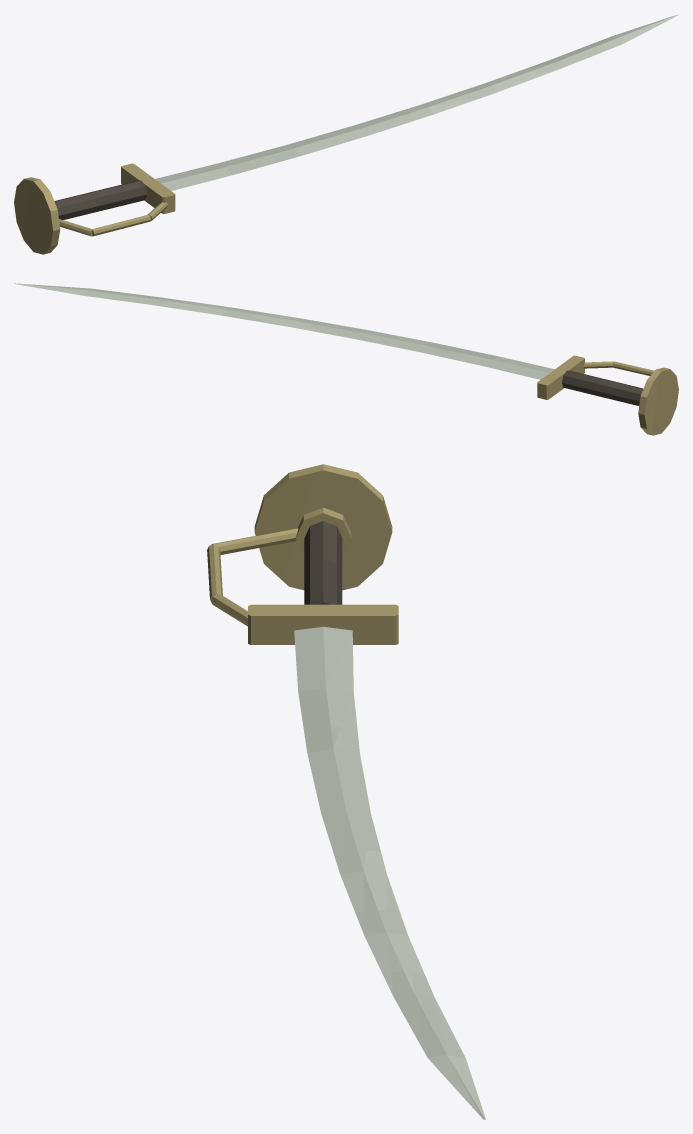
File: weapon-talwar.glb
The picture shows the model from 3 angles, top to bottom: view 1: azimuth 30°, elevation 25°; view 2: azimuth 150°, elevation 25°; view 3: azimuth 270°, elevation 25°; orthographic projection. The views are drawn at different scales.
Visible parts, largest first — view 1: weapon-talwar/faceted-distinct-blade, weapon-talwar/large-disc-pommel, weapon-talwar/eight-sided-handle, weapon-talwar/transverse-crossguard, weapon-talwar/open-knuckle-bow-2; view 2: weapon-talwar/faceted-distinct-blade, weapon-talwar/large-disc-pommel, weapon-talwar/eight-sided-handle, weapon-talwar/transverse-crossguard, weapon-talwar/open-knuckle-bow-2; view 3: weapon-talwar/faceted-distinct-blade, weapon-talwar/large-disc-pommel, weapon-talwar/transverse-crossguard, weapon-talwar/eight-sided-handle, weapon-talwar/handle-end-pommel, weapon-talwar/open-knuckle-bow-3.
Boxes of the visible parts, left/top/right/bottom form: weapon-talwar/faceted-distinct-blade: left=155, top=14, right=678, bottom=190; weapon-talwar/large-disc-pommel: left=14, top=177, right=60, bottom=254; weapon-talwar/eight-sided-handle: left=54, top=180, right=146, bottom=219; weapon-talwar/transverse-crossguard: left=121, top=163, right=175, bottom=213; weapon-talwar/open-knuckle-bow-2: left=92, top=215, right=150, bottom=236; weapon-talwar/faceted-distinct-blade: left=14, top=283, right=554, bottom=379; weapon-talwar/large-disc-pommel: left=638, top=367, right=678, bottom=435; weapon-talwar/eight-sided-handle: left=562, top=370, right=643, bottom=405; weapon-talwar/transverse-crossguard: left=537, top=355, right=584, bottom=399; weapon-talwar/open-knuckle-bow-2: left=613, top=361, right=653, bottom=375; weapon-talwar/faceted-distinct-blade: left=294, top=627, right=485, bottom=1119; weapon-talwar/large-disc-pommel: left=254, top=464, right=392, bottom=590; weapon-talwar/transverse-crossguard: left=248, top=604, right=398, bottom=644; weapon-talwar/eight-sided-handle: left=304, top=521, right=342, bottom=604; weapon-talwar/handle-end-pommel: left=295, top=507, right=351, bottom=556; weapon-talwar/open-knuckle-bow-3: left=211, top=528, right=298, bottom=554.
Size of the model in its own units: 0.958 by 0.094 by 0.1905.
Materials: 3 (3 with a texture image).
